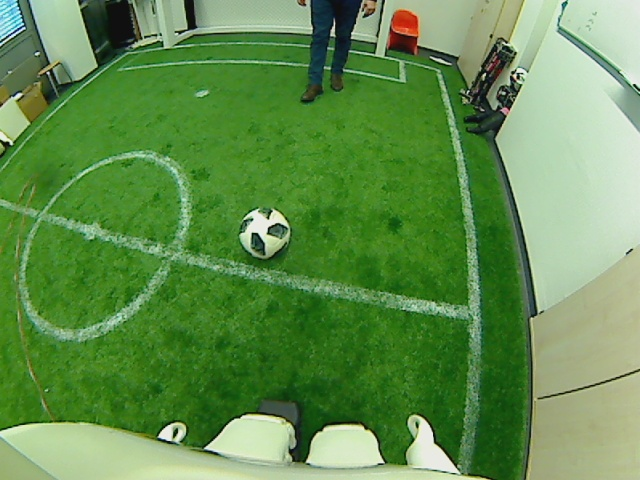ball: (237, 206, 290, 260)
